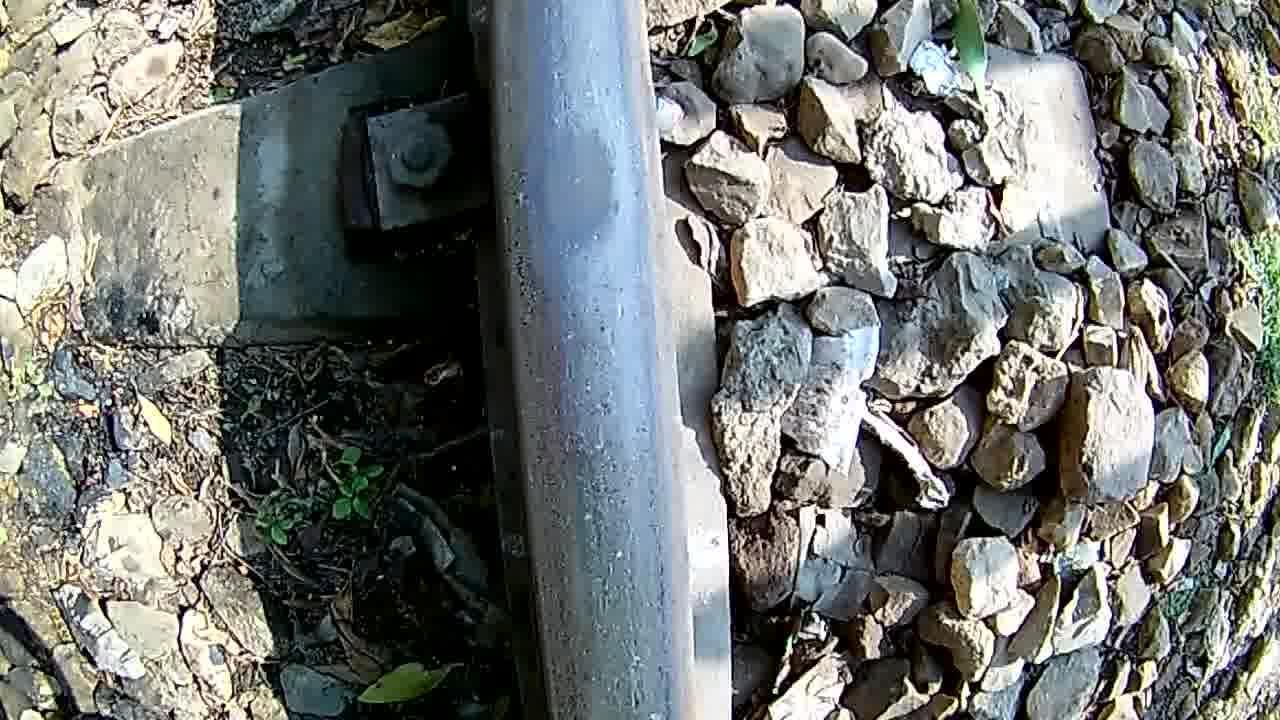crack: (492, 0, 660, 391)
